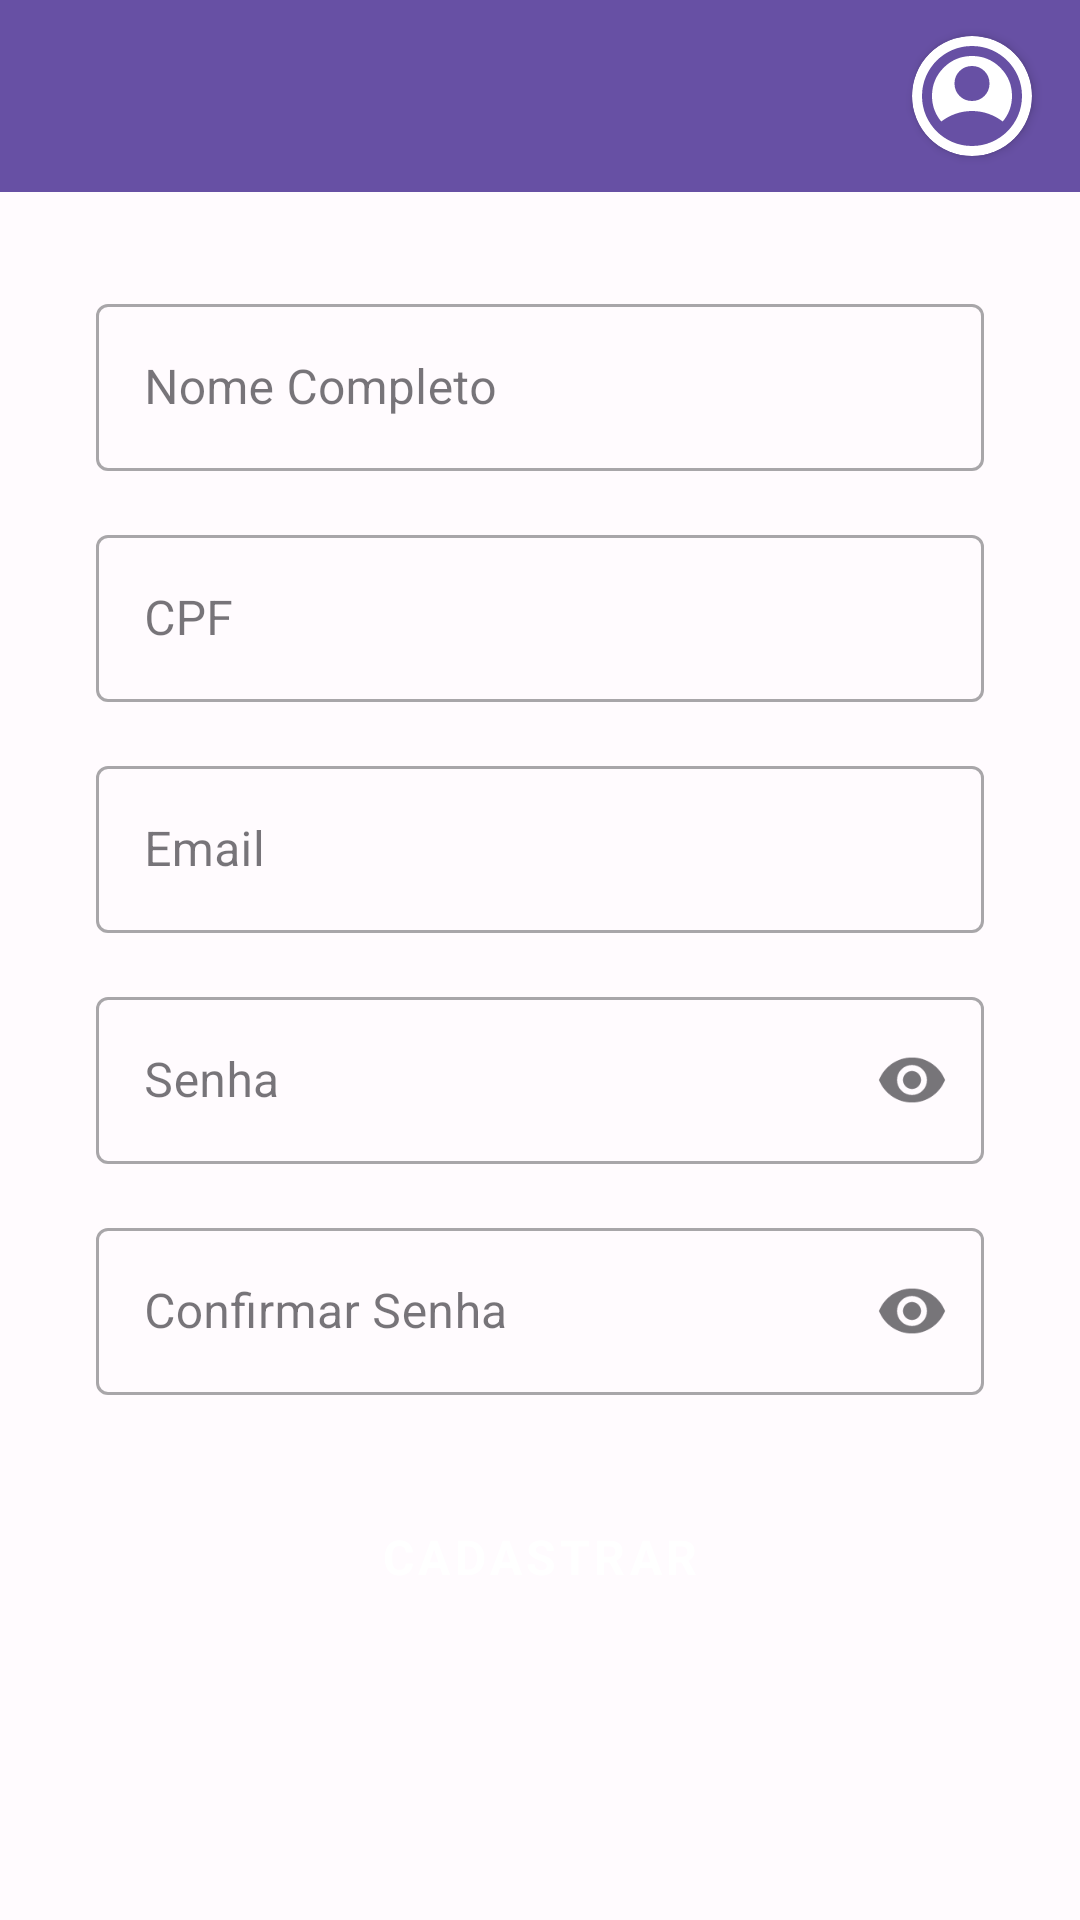

Icons on this 1080px×1920px Android screen, each with its box as {"left": x1, "top": y1, "right": x2, "bottom": y2}:
Foto do perfil: {"left": 912, "top": 36, "right": 1032, "bottom": 156}
